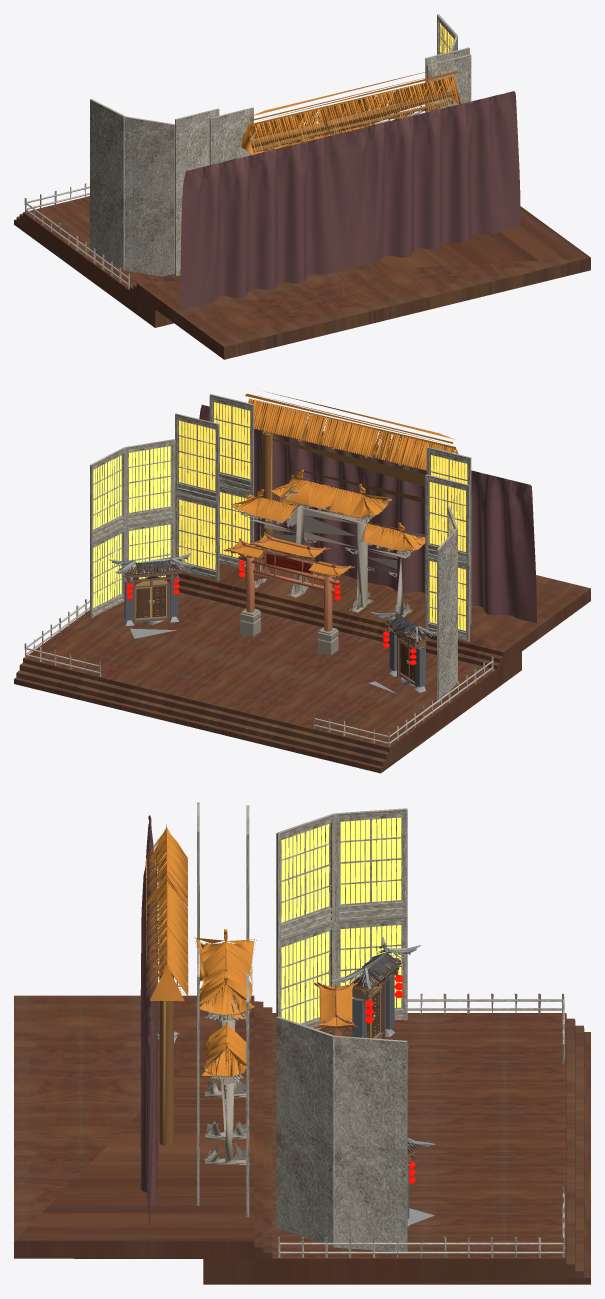
Rendered from yue-opera-stage.glb.
3 views of the same model, one above another, from view 1: azimuth 30°, elevation 25°; view 2: azimuth 150°, elevation 25°; view 3: azimuth 270°, elevation 25° (orthographic). The views are drawn at different scales.
Parts seen in each view (by area): view 1: Yueju_Opera_Stage; view 2: Yueju_Opera_Stage; view 3: Yueju_Opera_Stage.
Boxes of the visible parts, left/top/right/bottom form: Yueju_Opera_Stage: left=14, top=14, right=590, bottom=359; Yueju_Opera_Stage: left=14, top=392, right=590, bottom=773; Yueju_Opera_Stage: left=14, top=802, right=590, bottom=1284.
Size of the model in its own units: 16 by 8.49 by 15.87.
Materials: 33 (20 with a texture image).
